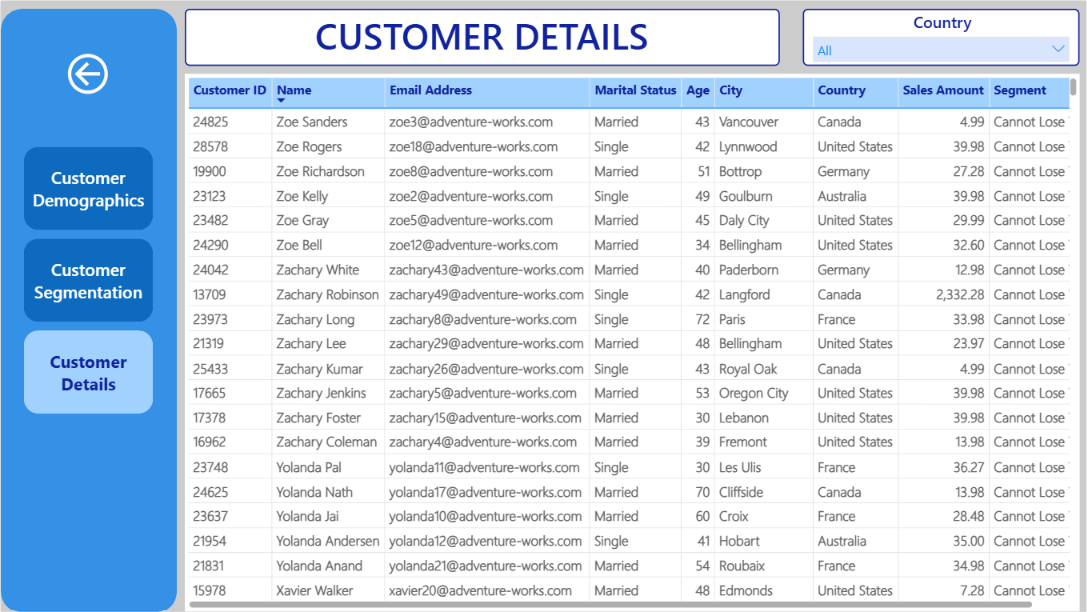

This screenshot's page, from the dashboard's own definition file:
{"tool":"powerbi","page":{"name":"Customer Details","canvas":[1280,720],"ordinal":2},"visuals":[{"type":"tableEx","fields":{"Values":["DimCustomer.CustomerKey","DimCustomer.Customer Name","DimCustomer.EmailAddress","DimCustomer.MaritalStatus","Sum(DimCustomer.Age)","DimGeography.City","DimGeography.EnglishCountryRegionName","Sum(FactInternetSales.SalesAmount)","Sheet1.Segment"]},"box":[216.8,86.4,1052.5,634],"z":0},{"type":"shape","box":[0,9.6,207.2,710.8],"z":1000},{"type":"pageNavigator","box":[27.4,171.5,152.3,315.6],"z":2000},{"type":"textbox","box":[216.8,9.6,699.8,67.2],"z":3000},{"type":"slicer","title":"Country","fields":{"Values":["DimGeography.EnglishCountryRegionName"]},"box":[944.1,9.6,325.2,67.2],"z":4000},{"type":"actionButton","box":[72.7,56.3,83.7,59],"z":5000}]}

Visuals, with their boxes in screenshot pixels (x1, y1, x2, y2), scaled from the page's 1280x720 canvas onto the 1087x612 screenshot:
tableEx - DimCustomer.CustomerKey x DimCustomer.Customer Name: bbox=(184, 73, 1078, 611)
shape: bbox=(0, 8, 176, 611)
pageNavigator: bbox=(23, 146, 153, 414)
textbox: bbox=(184, 8, 778, 65)
"Country" slicer: bbox=(802, 8, 1078, 65)
actionButton: bbox=(62, 48, 133, 98)
